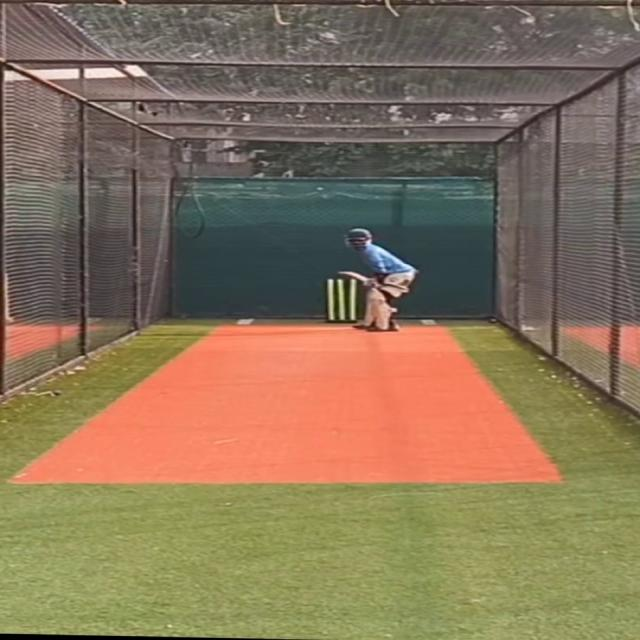stump: (318, 276, 359, 324)
